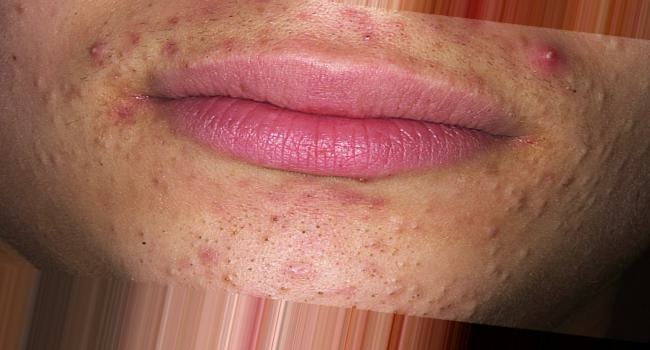Acne: (61, 18, 587, 301)
